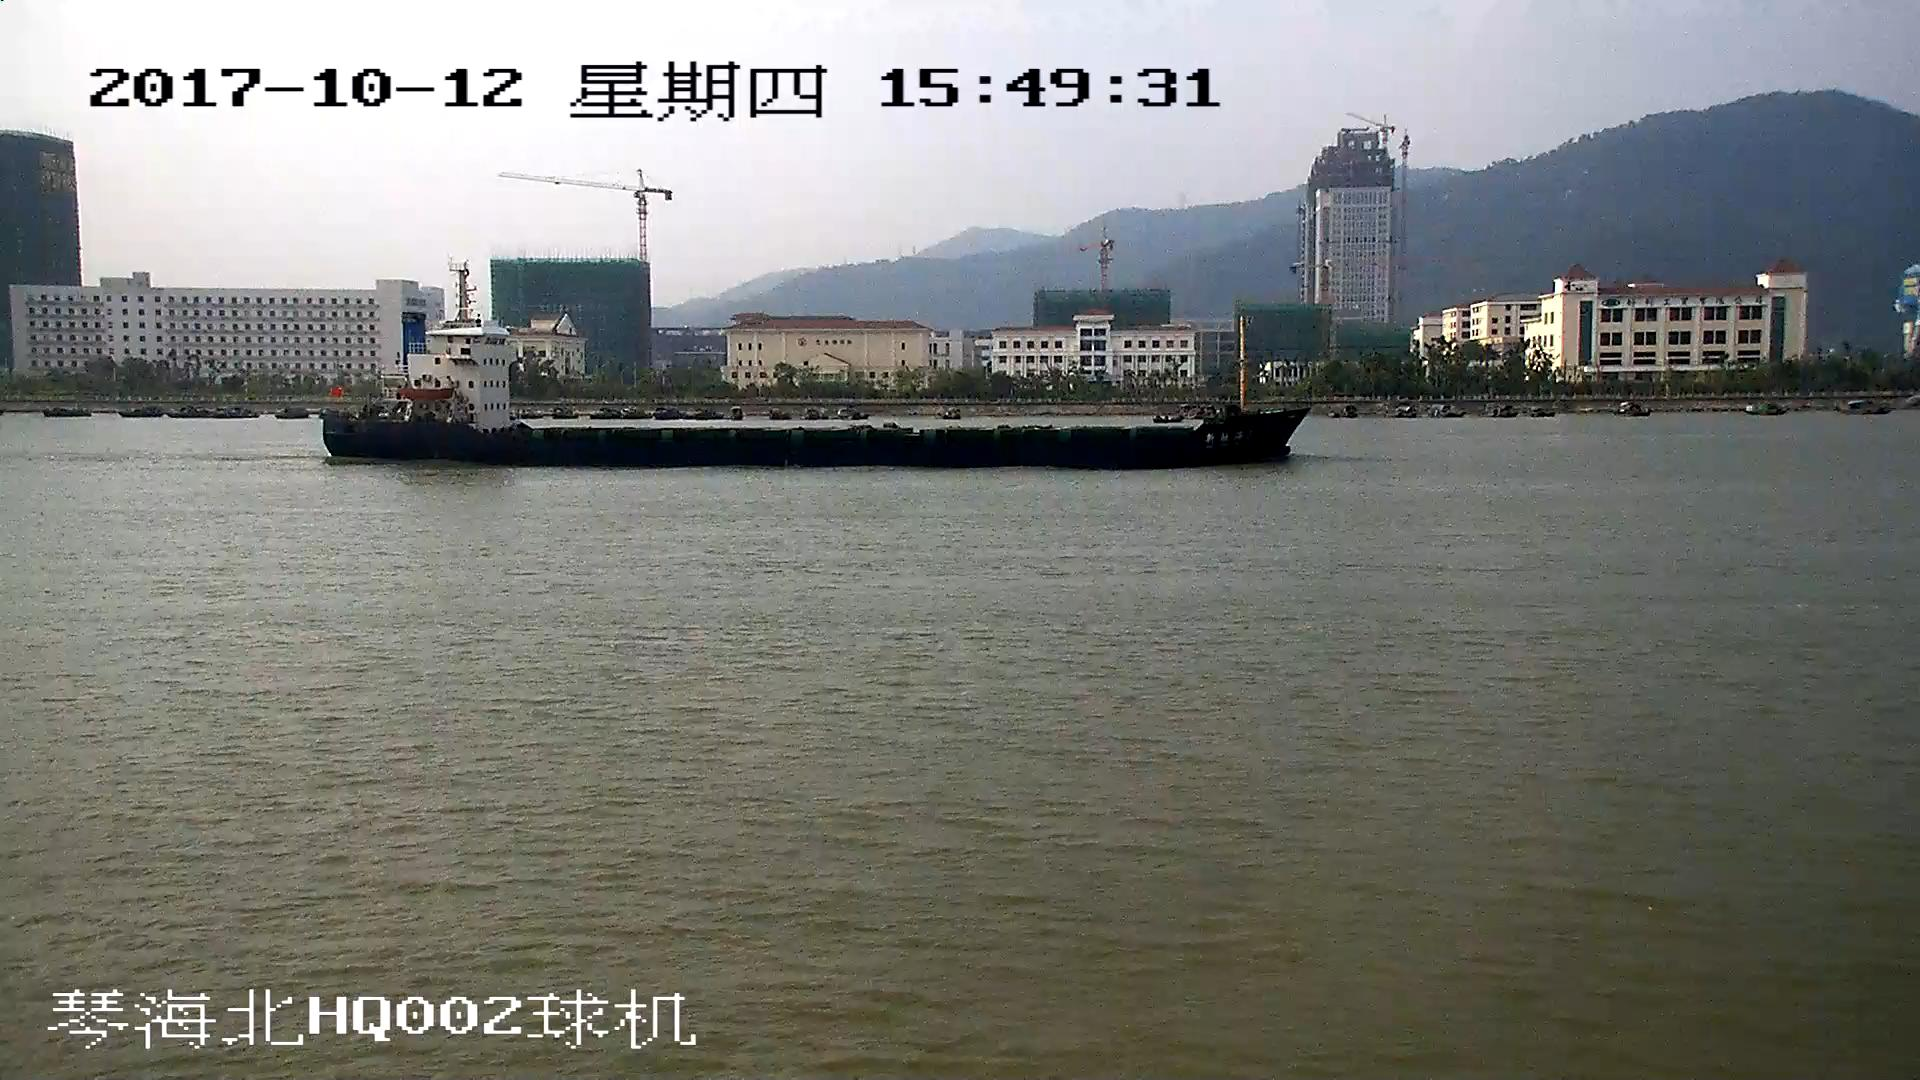general cargo ship: (317, 259, 1310, 469)
